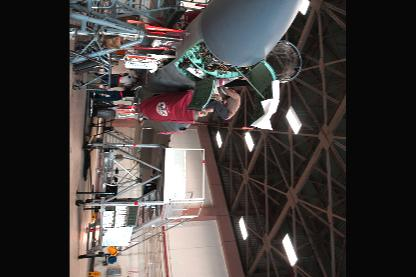F117: (84, 0, 315, 196)
